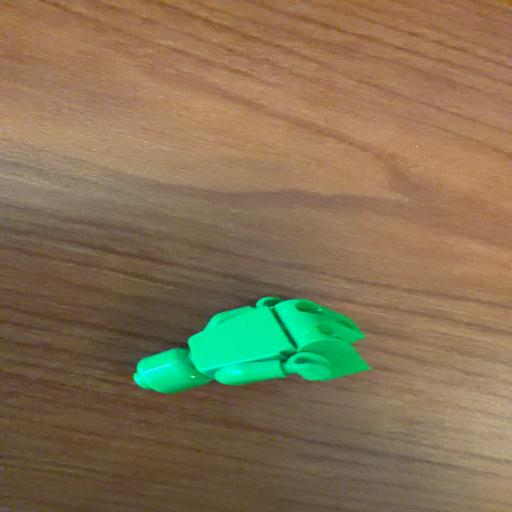UnoQ-minifig-detector: (134, 297, 369, 393)
